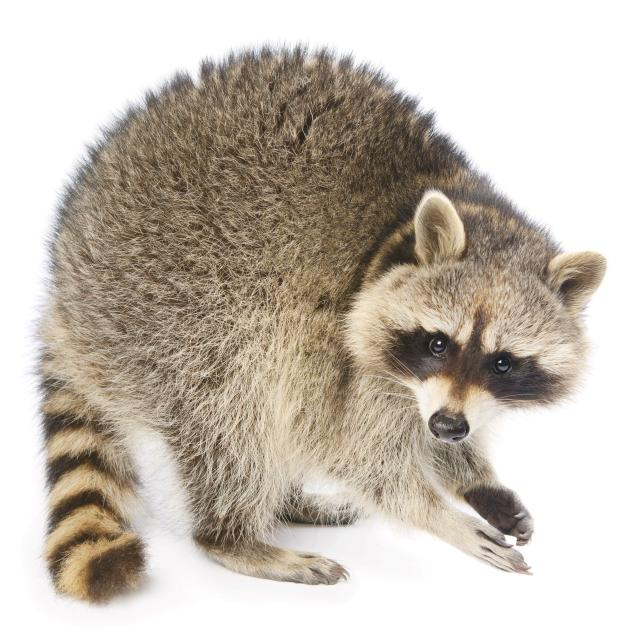raccoon: (38, 45, 605, 604)
